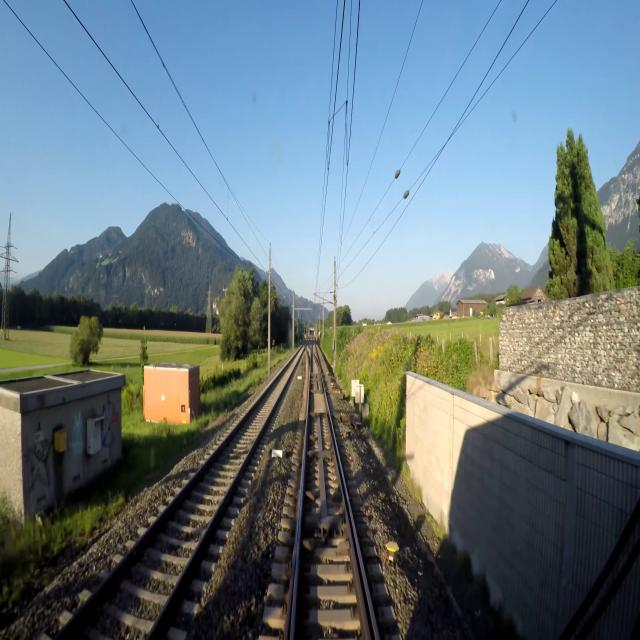rail-track: (59, 351, 300, 639), (295, 356, 363, 639), (353, 537, 375, 639)
